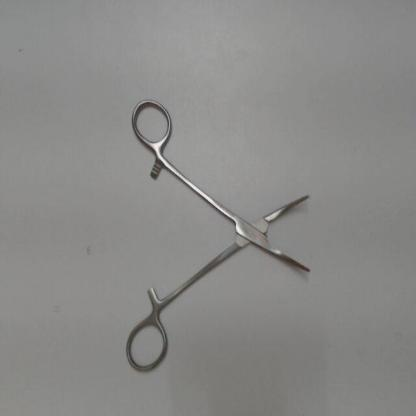Crile Artery Forceps: (120, 93, 322, 378)
